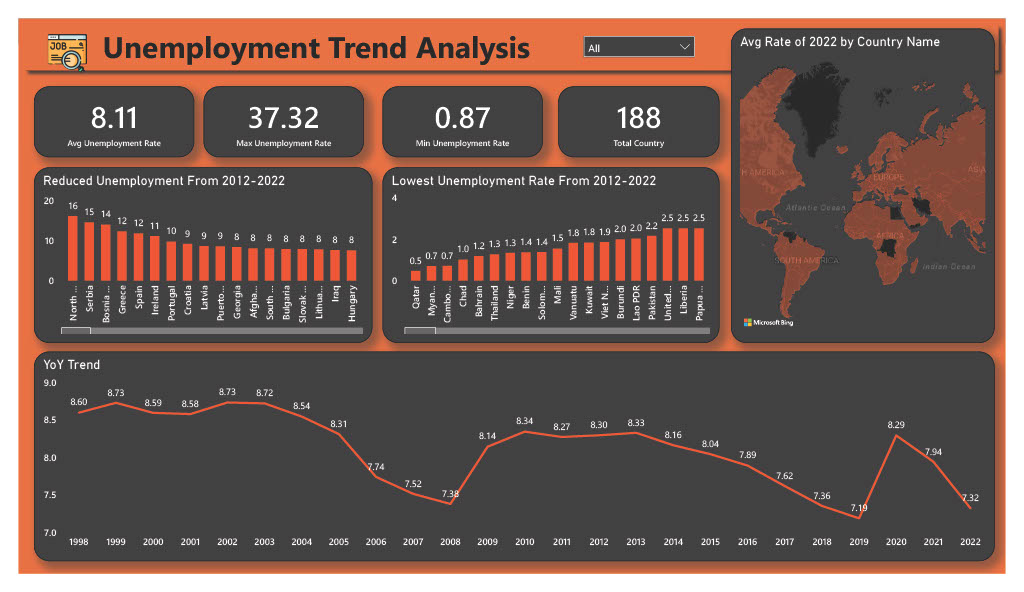

Layout of this report page (visuals, bound fields, positions):
{"tool":"powerbi","page":{"name":"Unemployment Trend","canvas":[1280,720],"ordinal":0},"visuals":[{"type":"card","title":"Average Unemployment Rate","fields":{"Values":["Avg(Data.Average World)"]},"box":[19.8,87.9,208.3,92.1],"z":0},{"type":"card","title":"Average Unemployment Rate","fields":{"Values":["Measure.Max Rate"]},"box":[239.5,87.9,208.3,92.1],"z":1000},{"type":"card","title":"Average Unemployment Rate","fields":{"Values":["Measure.min rate"]},"box":[472,87.9,208.3,92.1],"z":2000},{"type":"columnChart","title":"Reduced Unemployment From 2012-2022","fields":{"Category":["Data.Country Name"],"Y":["Sum(Data.Reduction)"]},"box":[19.8,192.8,439.4,228.2],"z":3000},{"type":"columnChart","title":"Lowest Unemployment Rate From 2012-2022","fields":{"Category":["Data.Country Name"],"Y":["Sum(Data.Average World)"]},"box":[472,192.8,436.5,228.2],"z":4000},{"type":"shape","title":"Unemployment Trend Analysis","box":[0,0,1279.8,76.5],"z":5000},{"type":"filledMap","title":"Avg Rate of 2022 by Country Name","fields":{"Category":["Data.Country Name"]},"box":[924.1,12.8,341.6,408.2],"z":6000},{"type":"card","title":"Average Unemployment Rate","fields":{"Values":["Count(Data.Country Name)"]},"box":[700.2,87.9,208.3,92.1],"z":7000},{"type":"image","box":[32.6,12.8,60.9,63.8],"z":8000},{"type":"slicer","fields":{"Values":["Data.Country Name"]},"box":[722.8,12.8,164.4,49.6],"z":9000},{"type":"lineChart","title":"YoY Trend","fields":{"Category":["Global.All Year"],"Y":["Avg(Global.Rate)"]},"box":[19.8,432.3,1245.8,272.1],"z":10000}]}

Visuals, with their boxes in screenshot pixels (x1, y1, x2, y2), scaled from the page's 1280x720 canvas onto the 1024x592 screenshot:
"Average Unemployment Rate" card: select_region(16, 72, 182, 148)
"Average Unemployment Rate" card: select_region(192, 72, 358, 148)
"Average Unemployment Rate" card: select_region(378, 72, 544, 148)
"Reduced Unemployment From 2012-2022" columnChart: select_region(16, 159, 367, 346)
"Lowest Unemployment Rate From 2012-2022" columnChart: select_region(378, 159, 727, 346)
"Unemployment Trend Analysis" shape: select_region(0, 0, 1023, 63)
"Avg Rate of 2022 by Country Name" filledMap: select_region(739, 11, 1013, 346)
"Average Unemployment Rate" card: select_region(560, 72, 727, 148)
image: select_region(26, 11, 75, 63)
slicer - Data.Country Name: select_region(578, 11, 710, 51)
"YoY Trend" lineChart: select_region(16, 355, 1012, 579)
